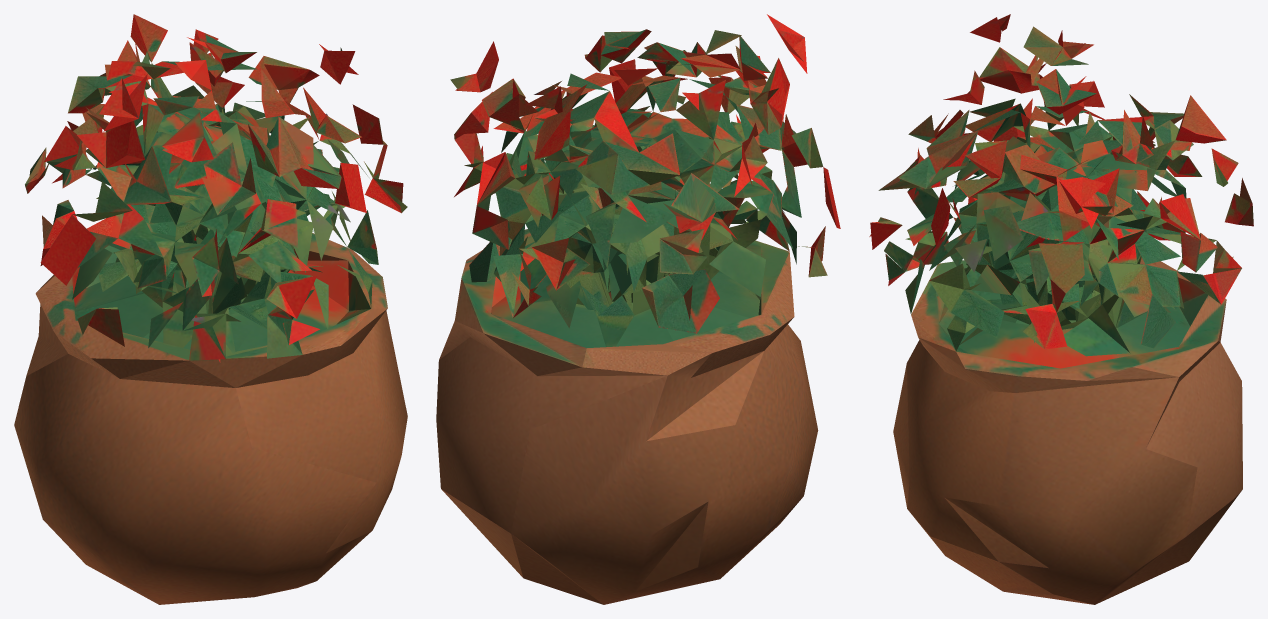
Rendered from planter_pot.glb.
The picture shows the model from 3 angles, left to right: view 1: azimuth 30°, elevation 25°; view 2: azimuth 150°, elevation 25°; view 3: azimuth 270°, elevation 25°; orthographic projection. The views are drawn at different scales.
Bounding box in the file's own units: 1.32 × 1.9 × 1.3.
Materials: 1 (1 with a texture image).
